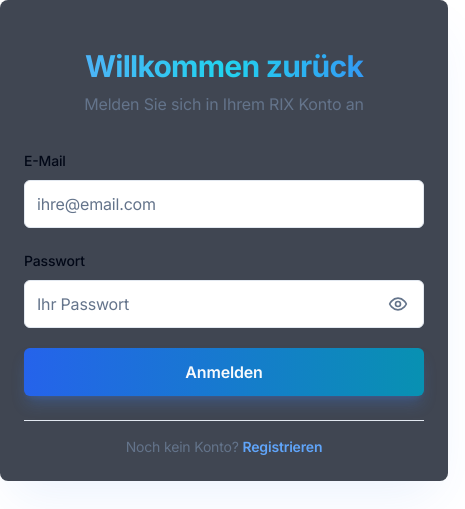
Test: LoginForm › Form Interactions › shows loading state during submission
Type "test@example.com" into the field labelled "E-Mail" at (224, 204), box [24,180,424,228]
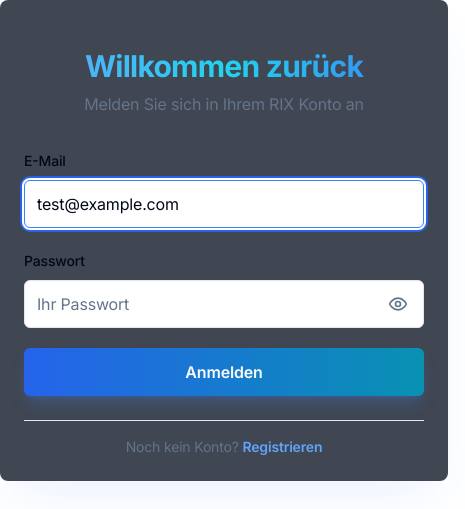
Type "password123" into the password field labelled "Passwort" at (224, 304), box [24,280,424,328]
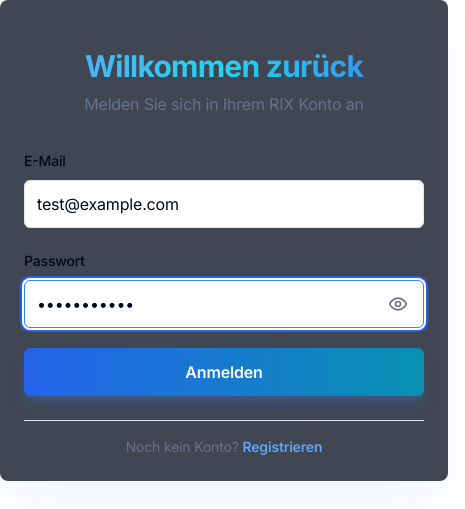
Click the button "Anmelden" at (224, 372), box [24,348,424,396]
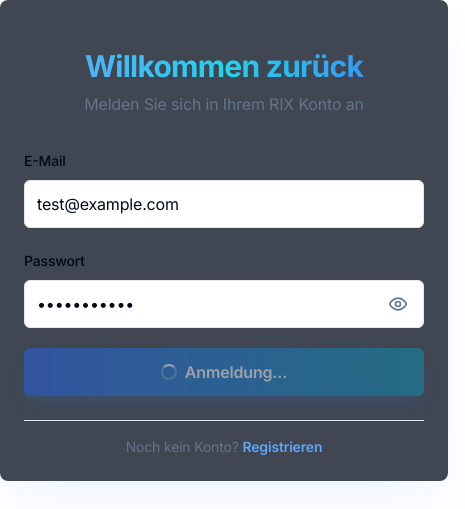
Expected: the text "Anmeldung..." is shown, [161,360,287,384]
Expected: the button named "anmelden" is disabled, [24,348,424,396]
